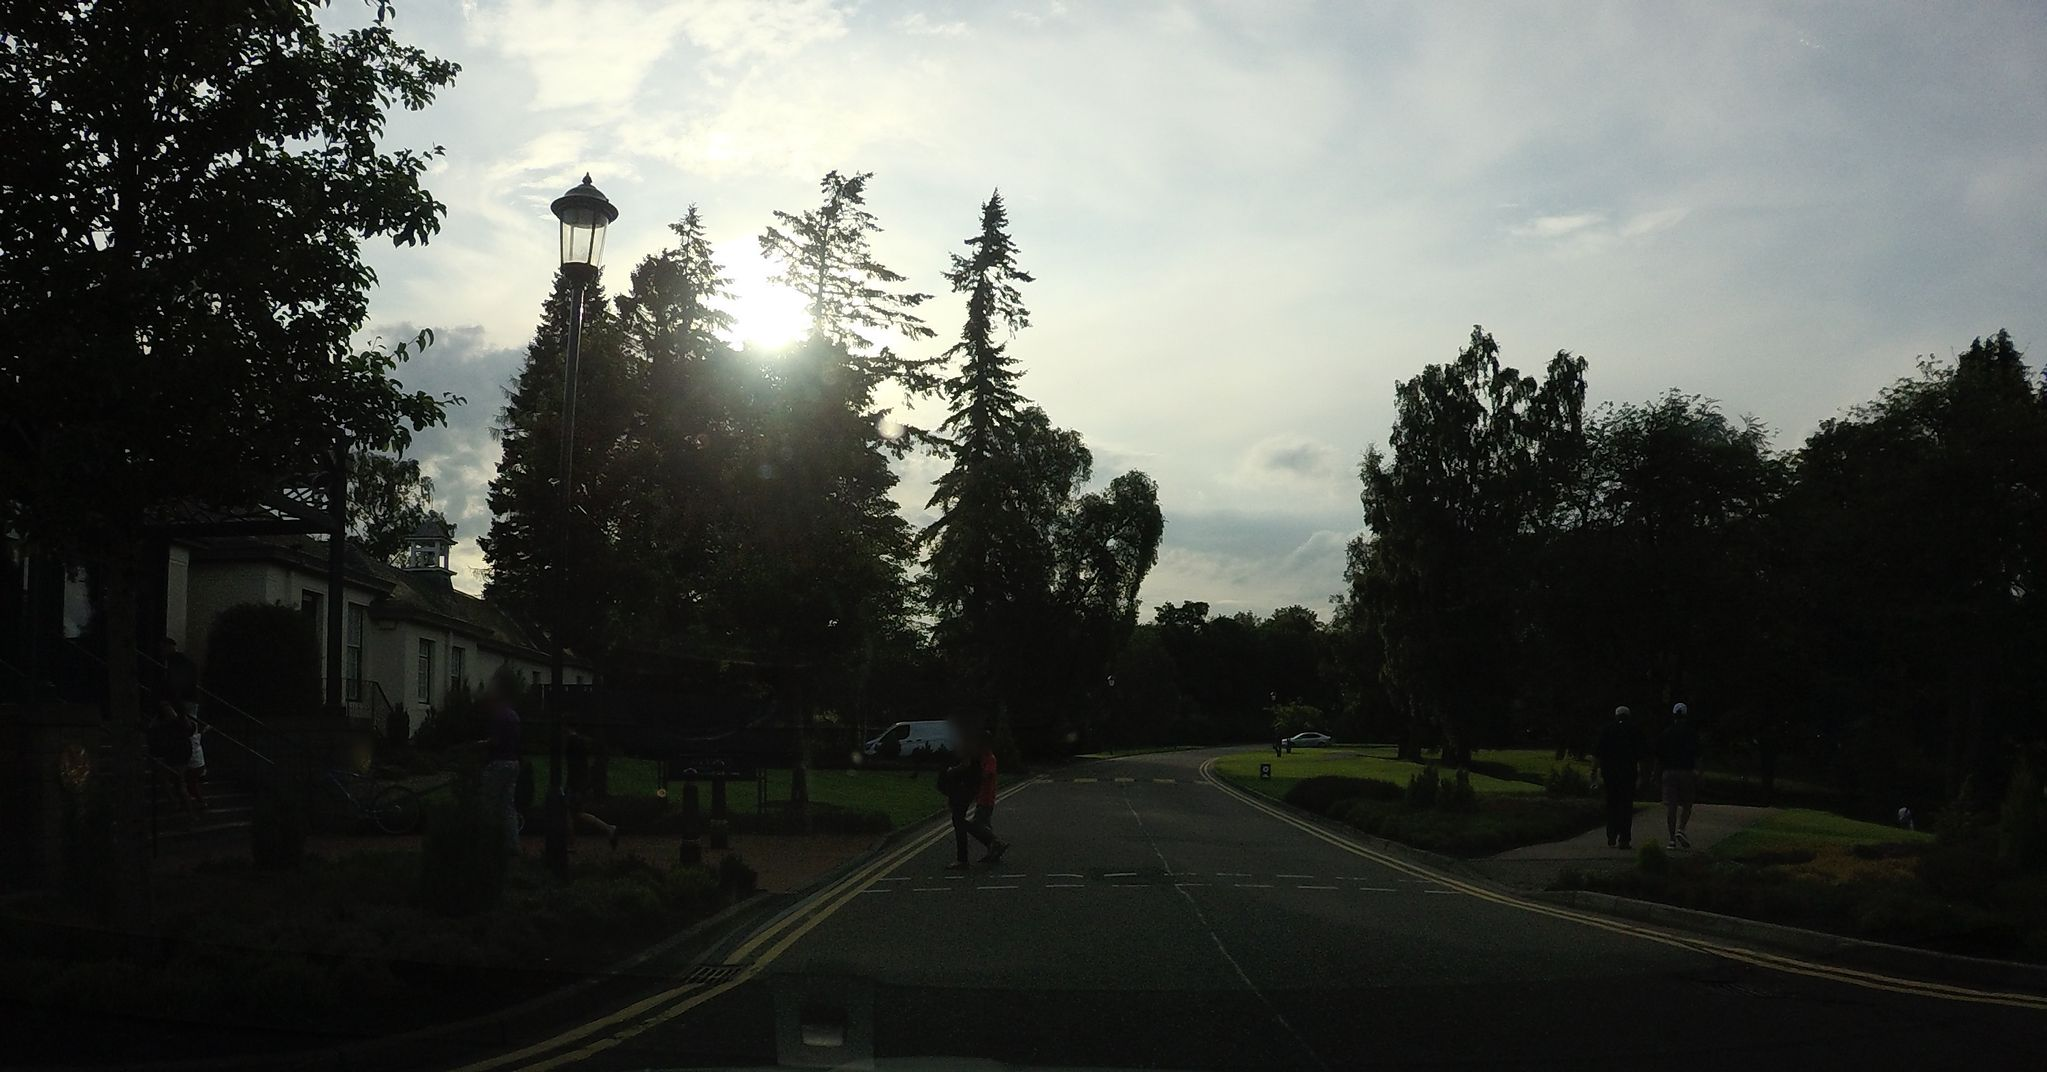car: (862, 717, 967, 763), (1279, 731, 1331, 747)
